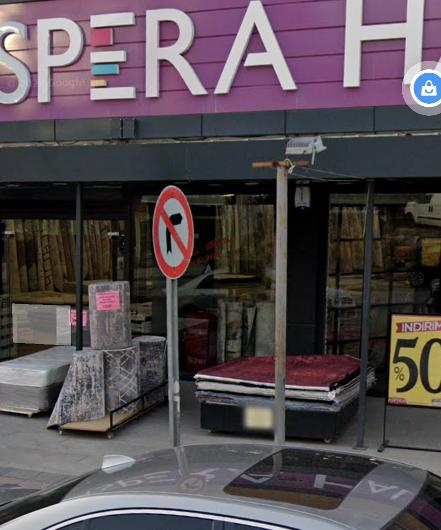rightturnsareforbidden: (150, 180, 195, 273)
